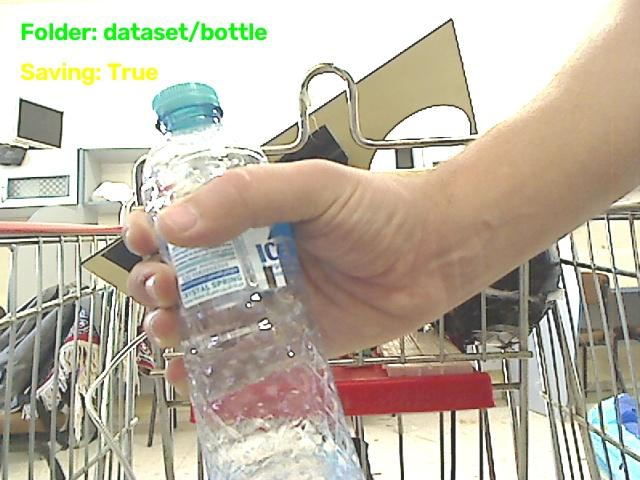Bottle: (158, 225, 361, 478), (141, 83, 267, 219)
